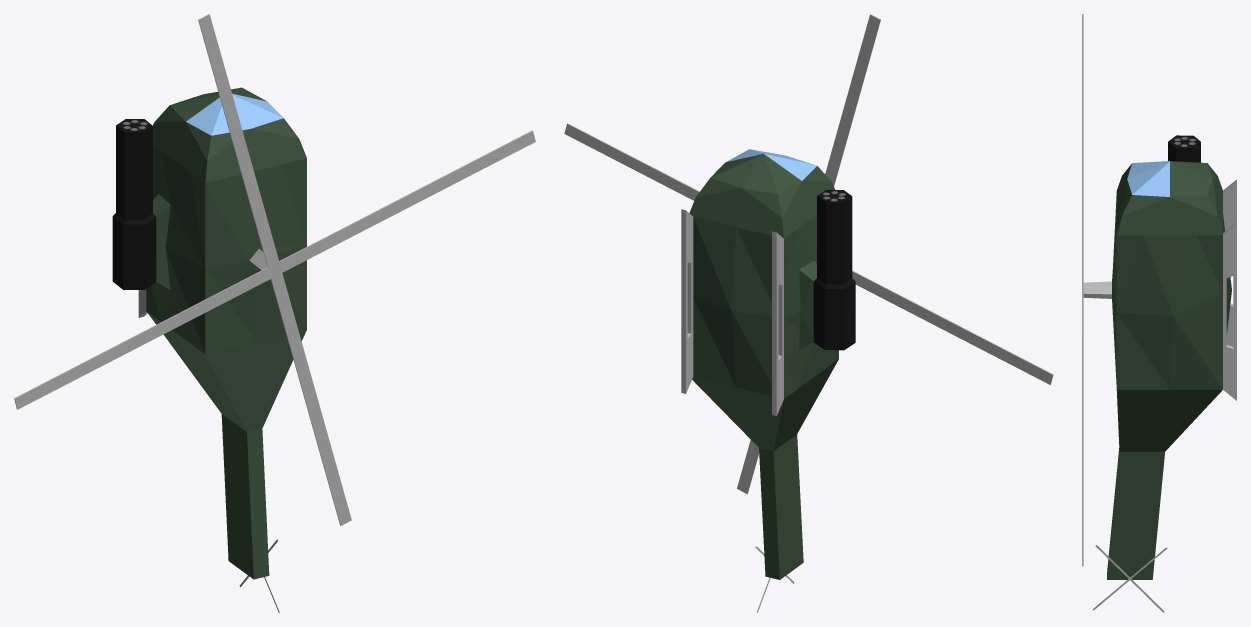
File: enemy1-3.obj
The picture shows the model from 3 angles, left to right: view 1: azimuth 30°, elevation 25°; view 2: azimuth 150°, elevation 25°; view 3: azimuth 270°, elevation 25°; orthographic projection. The views are drawn at different scales.
Parts seen in each view (by area): view 1: Cube; view 2: Cube; view 3: Cube.
Boxes of the visible parts, x1,y1,x2,y2 form: Cube: (14,14,535,612); Cube: (564,14,1053,612); Cube: (1082,14,1236,612).
Bounding box in the file's own units: 12.73 × 14.57 × 3.63.
1 material, 1 textured.
